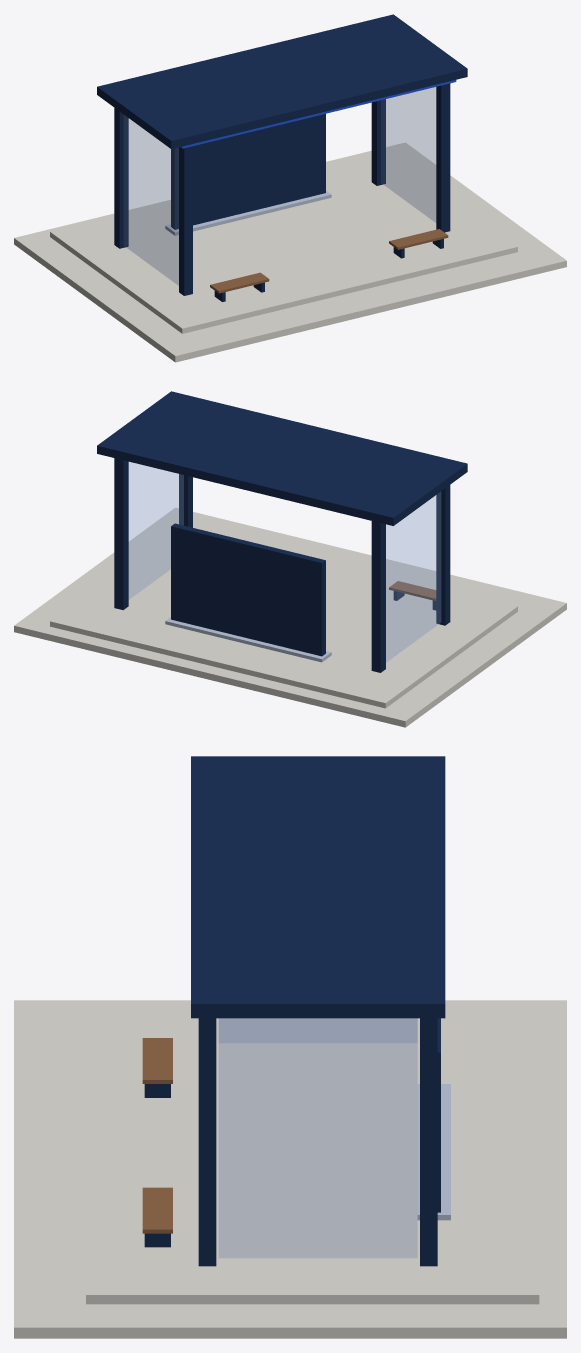
Rendered from scene-modern-plaza.glb.
3 renders of one model, top to bottom at view 1: azimuth 30°, elevation 25°; view 2: azimuth 150°, elevation 25°; view 3: azimuth 270°, elevation 25°, orthographic. The views are drawn at different scales.
Visible parts, largest first — view 1: ModernPlaza; view 2: ModernPlaza; view 3: ModernPlaza.
Boxes of the visible parts, x1=… form: ModernPlaza: x1=14, y1=14, x2=566, y2=362; ModernPlaza: x1=14, y1=391, x2=566, y2=727; ModernPlaza: x1=14, y1=756, x2=566, y2=1338.
Bounding box in the file's own units: 14 × 5.88 × 10.
